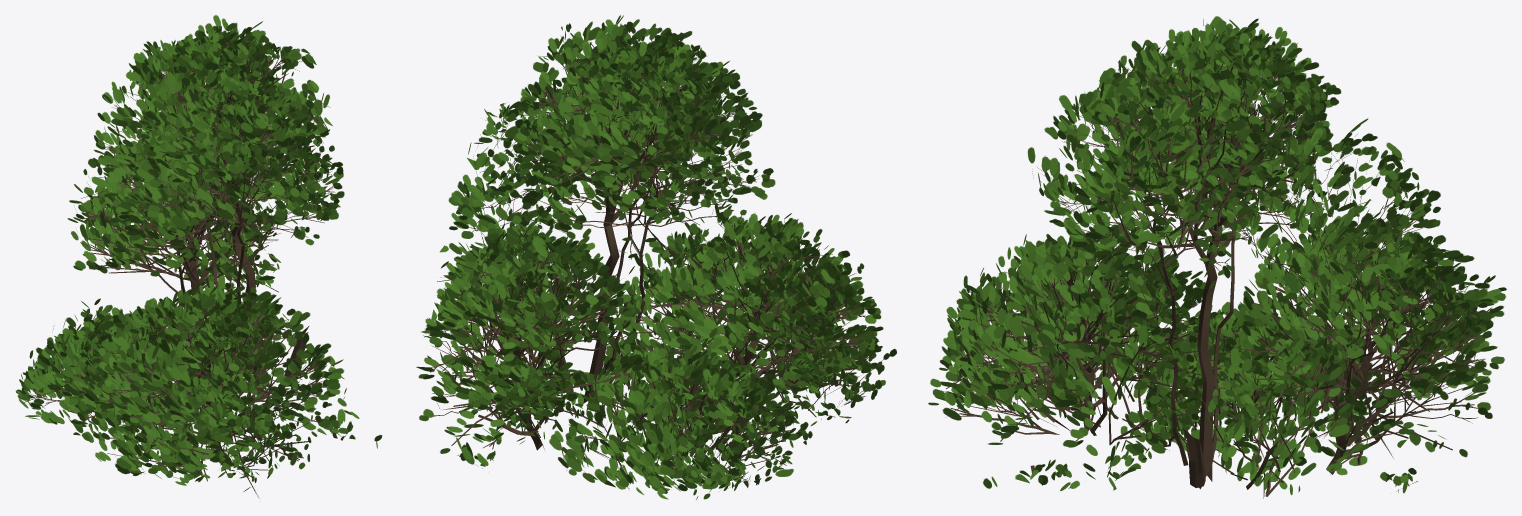
The picture shows the model from 3 angles, left to right: view 1: azimuth 30°, elevation 25°; view 2: azimuth 150°, elevation 25°; view 3: azimuth 270°, elevation 25°; orthographic projection. The views are drawn at different scales.
Visible parts, largest first — view 1: oak 01.001_trunk_Mat.001_0.341; view 2: oak 01.001_trunk_Mat.001_0.341; view 3: oak 01.001_trunk_Mat.001_0.341.
Part boxes in pixels (bbox=[...]): oak 01.001_trunk_Mat.001_0.341: bbox=[16, 15, 382, 497]; oak 01.001_trunk_Mat.001_0.341: bbox=[416, 15, 896, 499]; oak 01.001_trunk_Mat.001_0.341: bbox=[928, 16, 1506, 498].
Size of the model in its own units: 2.67 by 3.47 by 4.11.
Materials: 2 (1 with a texture image).
